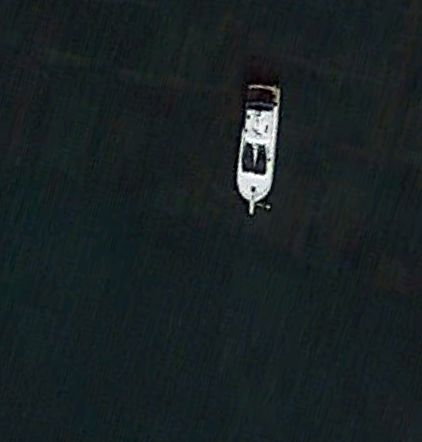boat: (234, 82, 287, 217)
